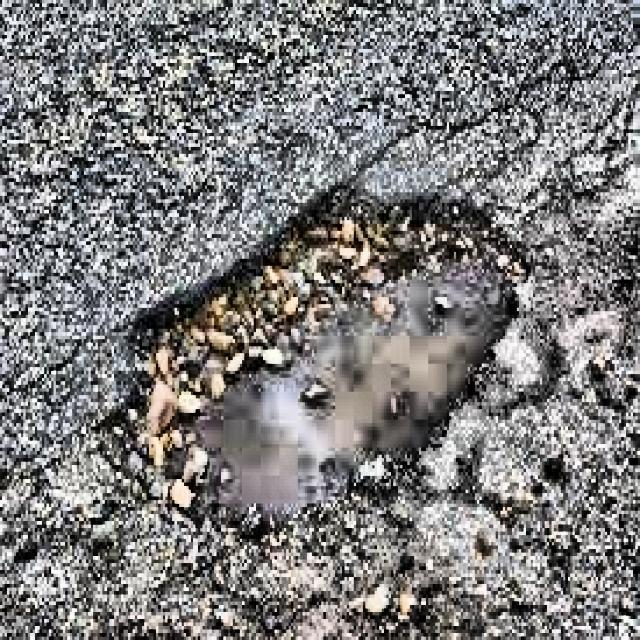pothole: (140, 196, 528, 637)
